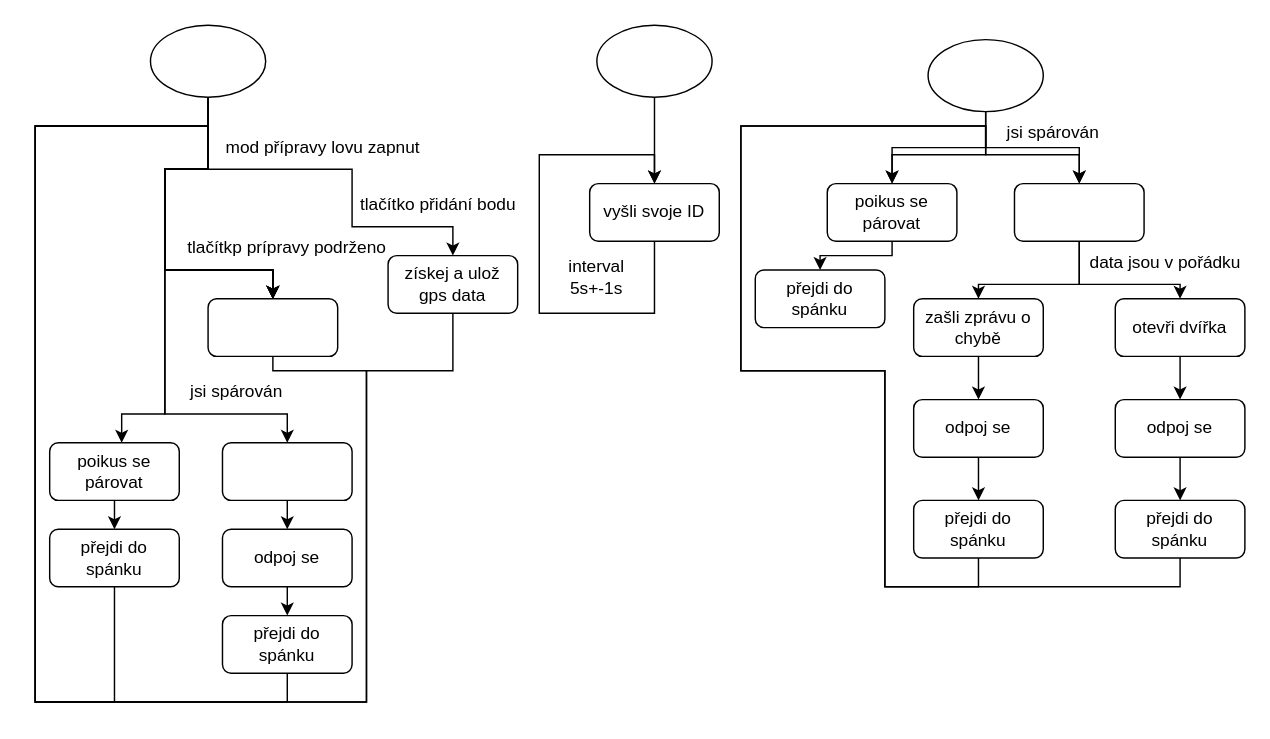
This 1270x739 diagram has some shape labels left out. Each missing label, with the centre of its shape:
"checkpoint" goes at [653,60].
"konec" goes at [985,75].
"pošli data" goes at [286,470].
"spáruj se a dotaň data" goes at [1078,211].
"start" goes at [207,60].
"zapni mód přípravy" goes at [272,326].
